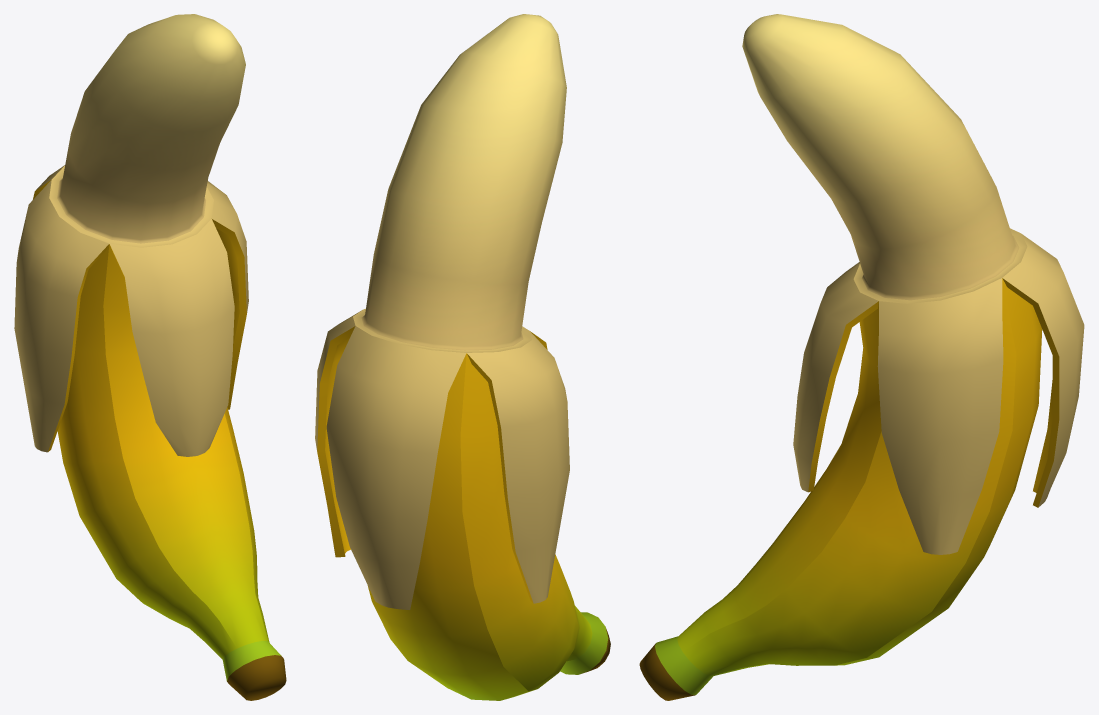
File: Peeled_banana.fbx
The picture shows the model from 3 angles, left to right: view 1: azimuth 30°, elevation 25°; view 2: azimuth 150°, elevation 25°; view 3: azimuth 270°, elevation 25°; orthographic projection. The views are drawn at different scales.
Parts seen in each view (by area): view 1: Peeled_banana; view 2: Peeled_banana; view 3: Peeled_banana.
Boxes of the visible parts, box(x1,y1,x2,y2) form: Peeled_banana: box(14, 14, 286, 700); Peeled_banana: box(315, 14, 610, 700); Peeled_banana: box(639, 14, 1084, 700).
Size of the model in its own units: 68.71 by 195 by 115.
